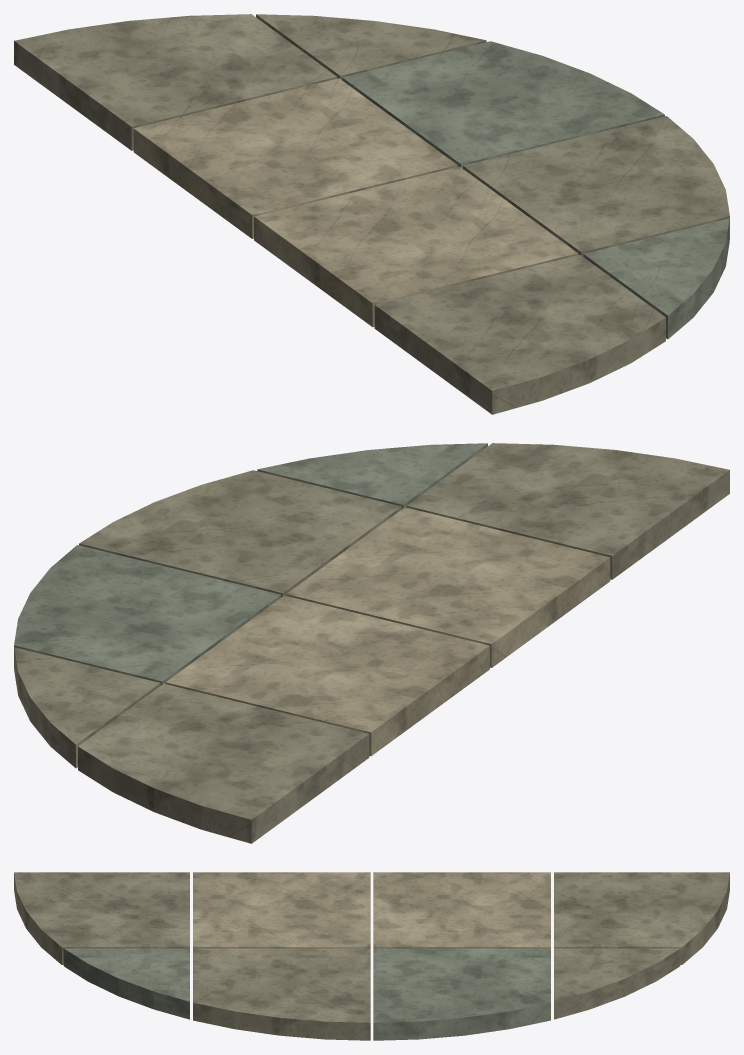
File: b01_niche_floor.fbx
The picture shows the model from 3 angles, top to bottom: view 1: azimuth 30°, elevation 25°; view 2: azimuth 150°, elevation 25°; view 3: azimuth 270°, elevation 25°; orthographic projection. The views are drawn at different scales.
Parts seen in each view (by area): view 1: b01_niche_floor; view 2: b01_niche_floor; view 3: b01_niche_floor.
Part boxes in pixels (bbox=[...]): b01_niche_floor: bbox=[14, 14, 729, 414]; b01_niche_floor: bbox=[14, 443, 729, 843]; b01_niche_floor: bbox=[14, 872, 729, 1040].
Size of the model in its own units: 25293 by 50787 by 1400.
